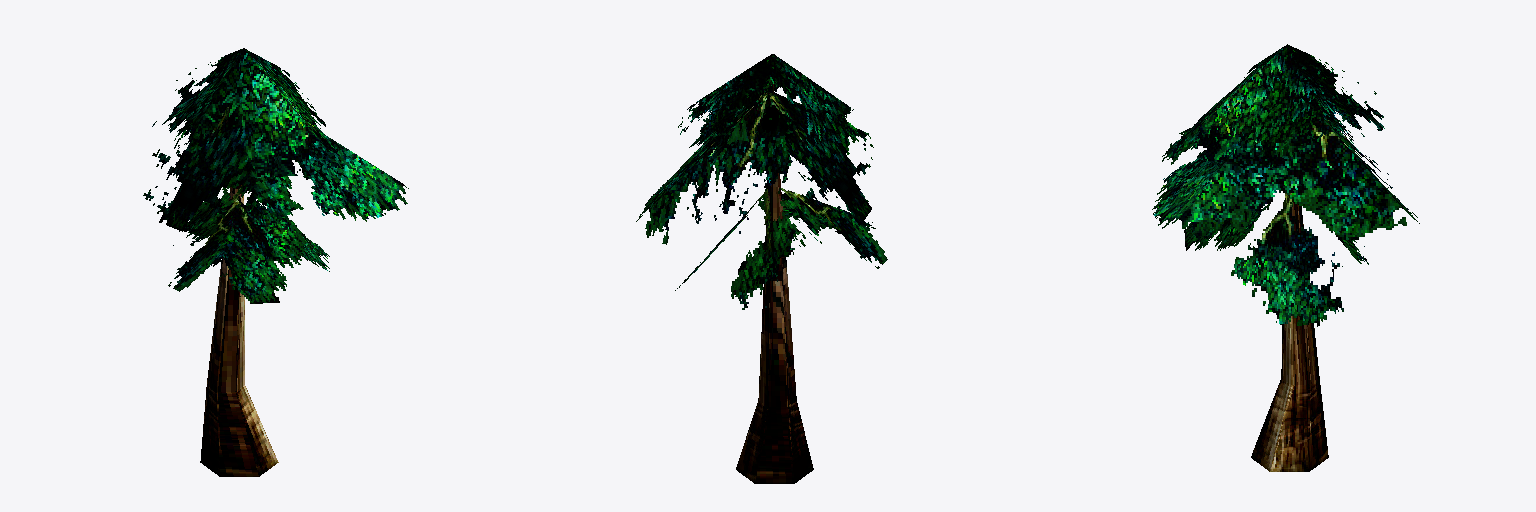
3 views of the same model, side by side, from view 1: azimuth 30°, elevation 25°; view 2: azimuth 150°, elevation 25°; view 3: azimuth 270°, elevation 25° (orthographic).
Parts seen in each view (by area): view 1: Converted_object_1; view 2: Converted_object_1; view 3: Converted_object_1.
Boxes of the visible parts, x1,y1,x2,y2 form: Converted_object_1: [143, 48, 408, 476]; Converted_object_1: [636, 54, 887, 483]; Converted_object_1: [1152, 44, 1419, 471].
Size of the model in its own units: 4.08 by 7.08 by 4.64.
Materials: 1 (1 with a texture image).